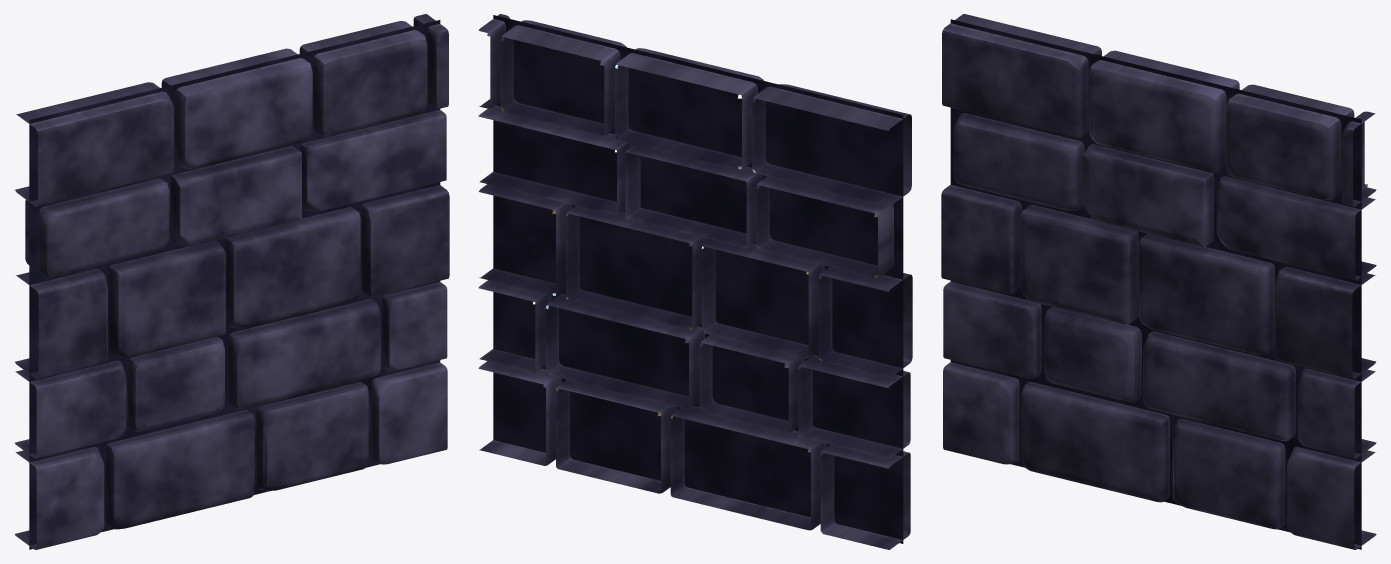
The model's file is Promenade_BackWall.fbx.
3 renders of one model, left to right at view 1: azimuth 30°, elevation 25°; view 2: azimuth 150°, elevation 25°; view 3: azimuth 330°, elevation 25°, orthographic.
Visible parts, largest first — view 1: Promenade_BackWall; view 2: Promenade_BackWall; view 3: Promenade_BackWall.
Part boxes in pixels (x1=…): Promenade_BackWall: x1=14, y1=14, x2=449, y2=549; Promenade_BackWall: x1=478, y1=14, x2=912, y2=549; Promenade_BackWall: x1=941, y1=14, x2=1376, y2=549.
Size of the model in its own units: 4 by 4 by 0.4491.
